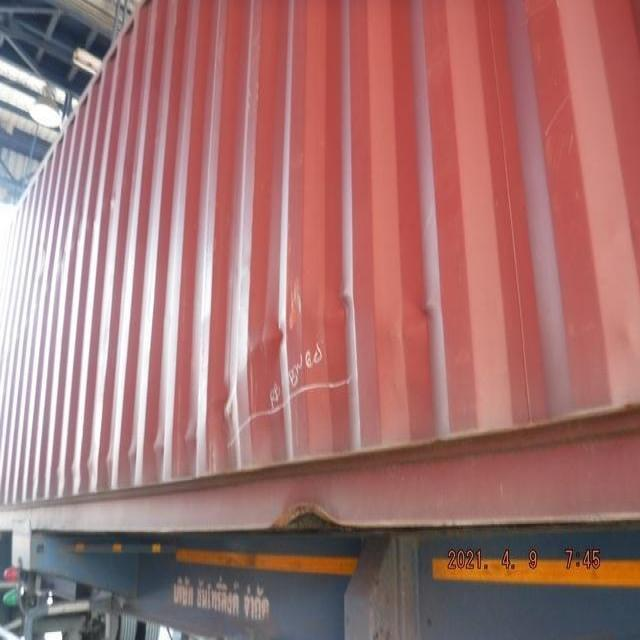dent: (202, 270, 387, 440), (367, 276, 481, 364), (96, 414, 210, 476)
